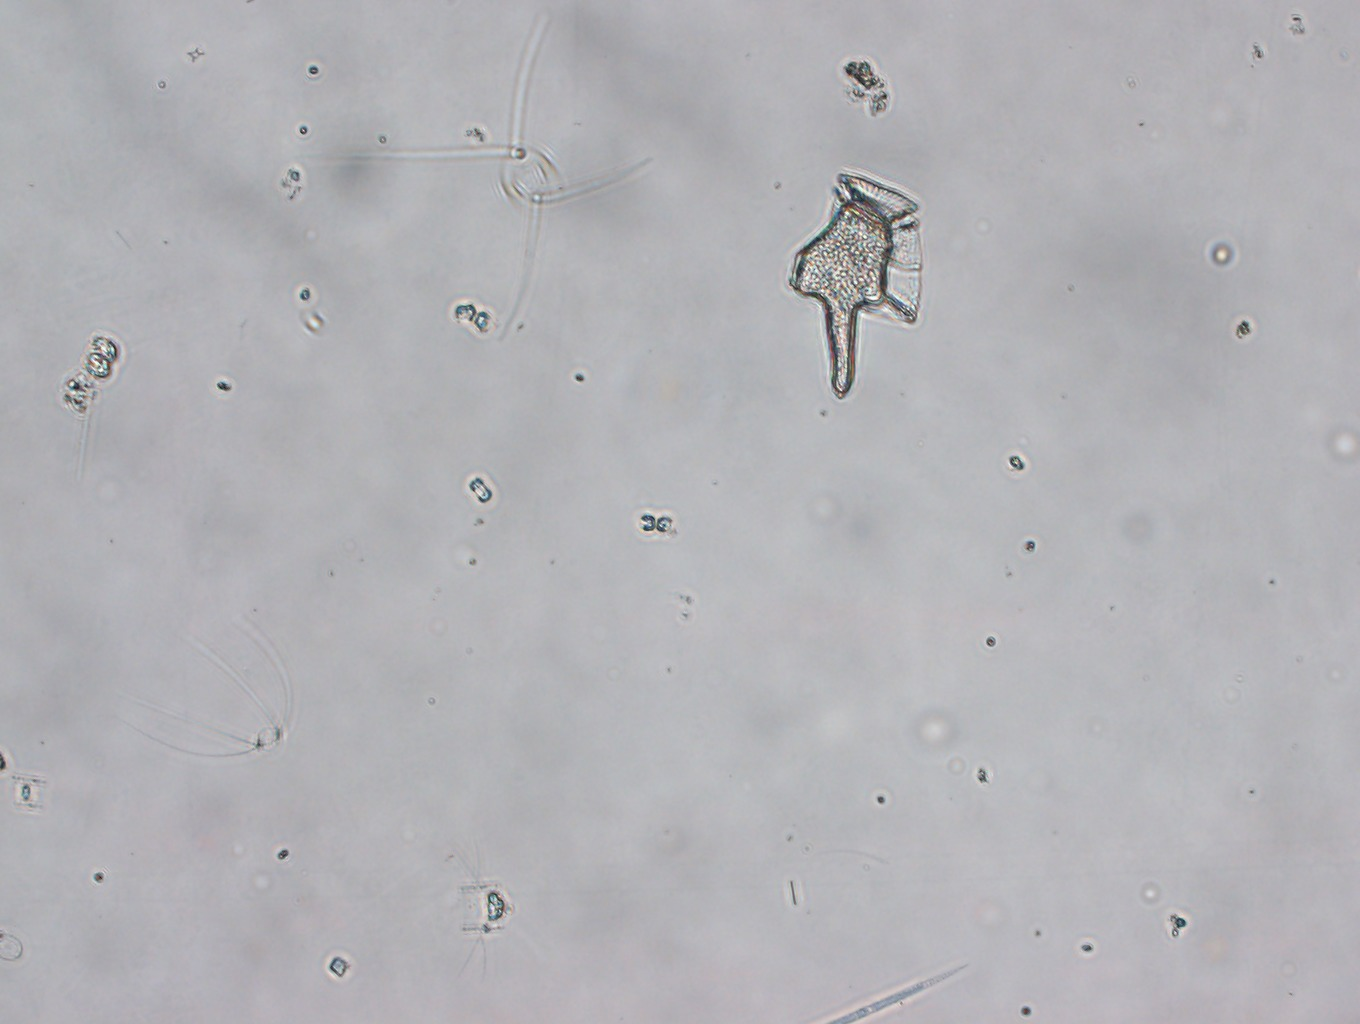chaetoceros: (350, 16, 660, 351), (142, 605, 294, 759), (450, 839, 520, 991)
dinophysis caudata: (787, 172, 922, 398)
skeletonema: (58, 328, 127, 415)
